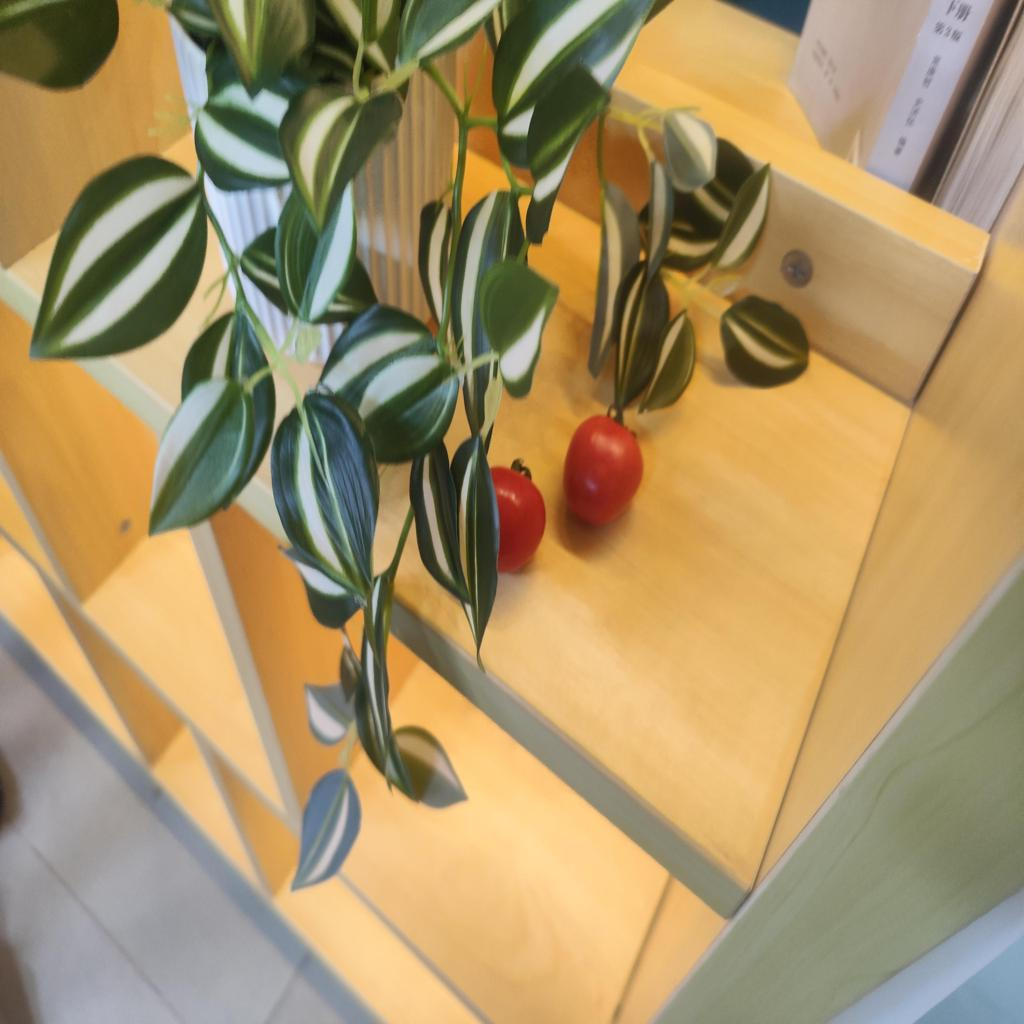tomato: (556, 401, 643, 543), (457, 454, 545, 583)
